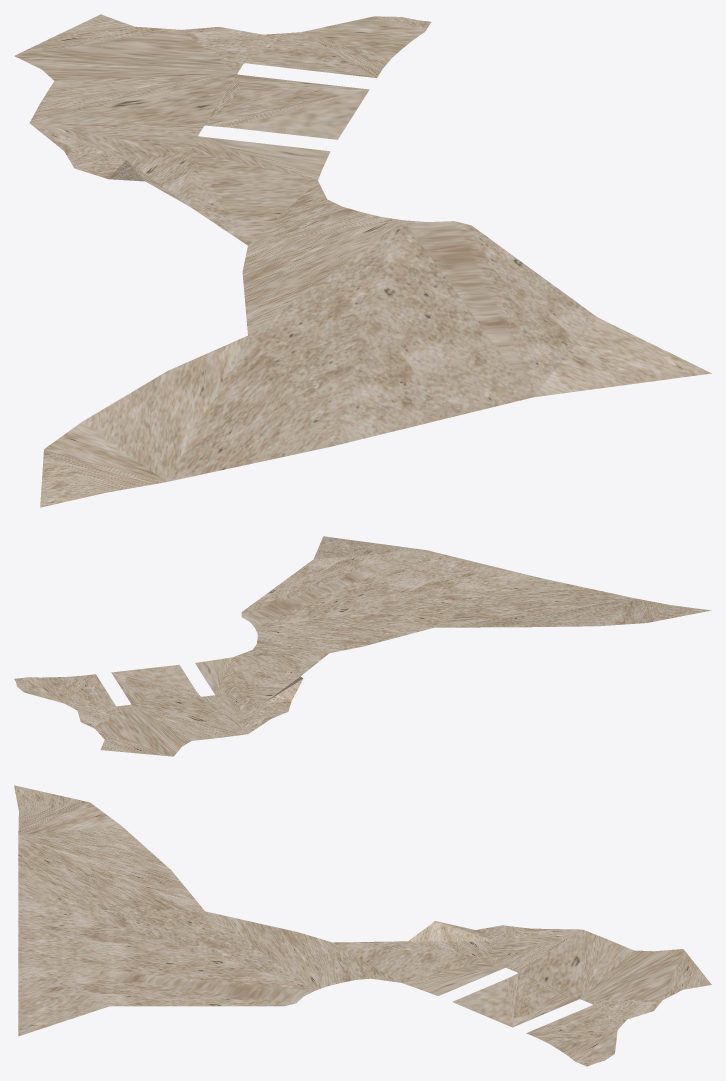
File: lodseabed027.obj
3 views of the same model, one above another, from view 1: azimuth 30°, elevation 25°; view 2: azimuth 150°, elevation 25°; view 3: azimuth 270°, elevation 25° (orthographic). The views are drawn at different scales.
Parts seen in each view (by area): view 1: lodseabed027; view 2: lodseabed027; view 3: lodseabed027.
Boxes of the visible parts, <box> form: lodseabed027: <box>14,14,711,507</box>; lodseabed027: <box>14,536,711,756</box>; lodseabed027: <box>14,785,711,1066</box>.
Size of the model in its own units: 445 by 19.47 by 482.
